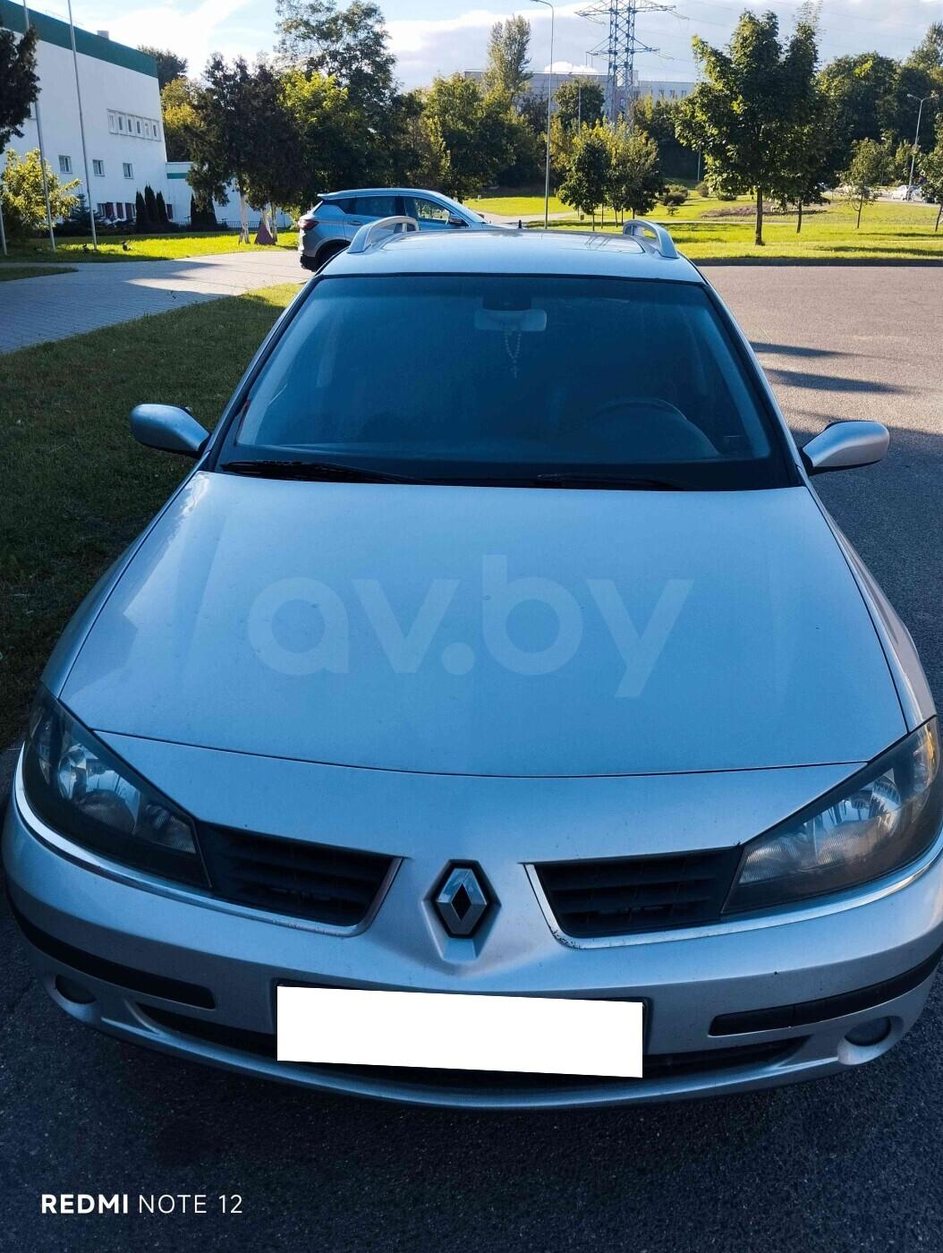Laguna_2005-2007: (0, 220, 943, 1110)
